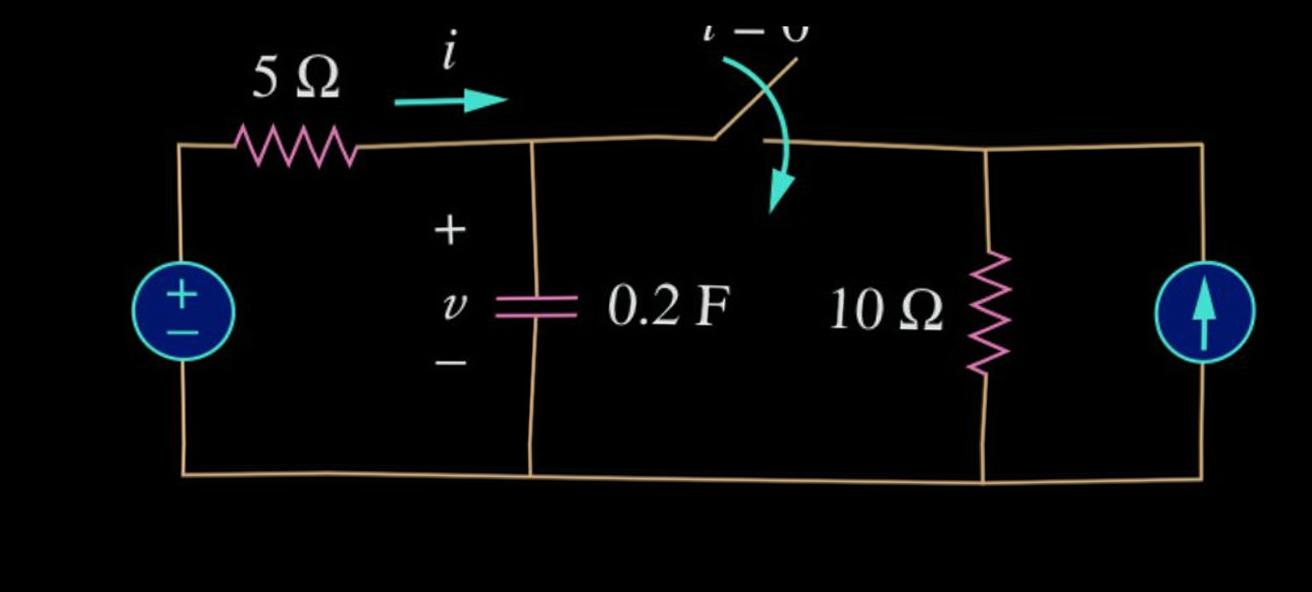Battery: (92, 244, 261, 387)
